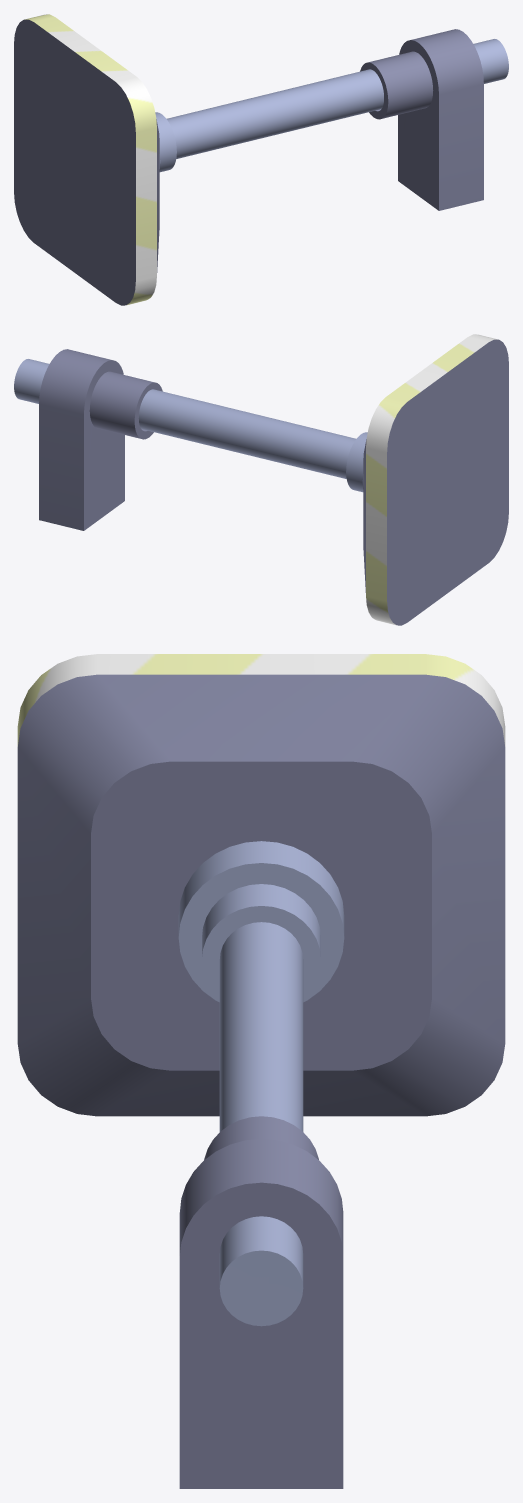
File: Press.fbx
3 renders of one model, top to bottom at view 1: azimuth 30°, elevation 25°; view 2: azimuth 150°, elevation 25°; view 3: azimuth 270°, elevation 25°, orthographic. The views are drawn at different scales.
Parts seen in each view (by area): view 1: Press_Head, Press_Base; view 2: Press_Head, Press_Base; view 3: Press_Head, Press_Base.
Boxes of the visible parts, x1=… form: Press_Head: x1=14, y1=14, x2=508, y2=305; Press_Base: x1=360, y1=29, x2=483, y2=210; Press_Head: x1=14, y1=334, x2=508, y2=625; Press_Base: x1=39, y1=349, x2=162, y2=530; Press_Head: x1=17, y1=654, x2=505, y2=1326; Press_Base: x1=179, y1=1116, x2=343, y2=1488.
Size of the model in its own units: 378 by 194 by 188.
